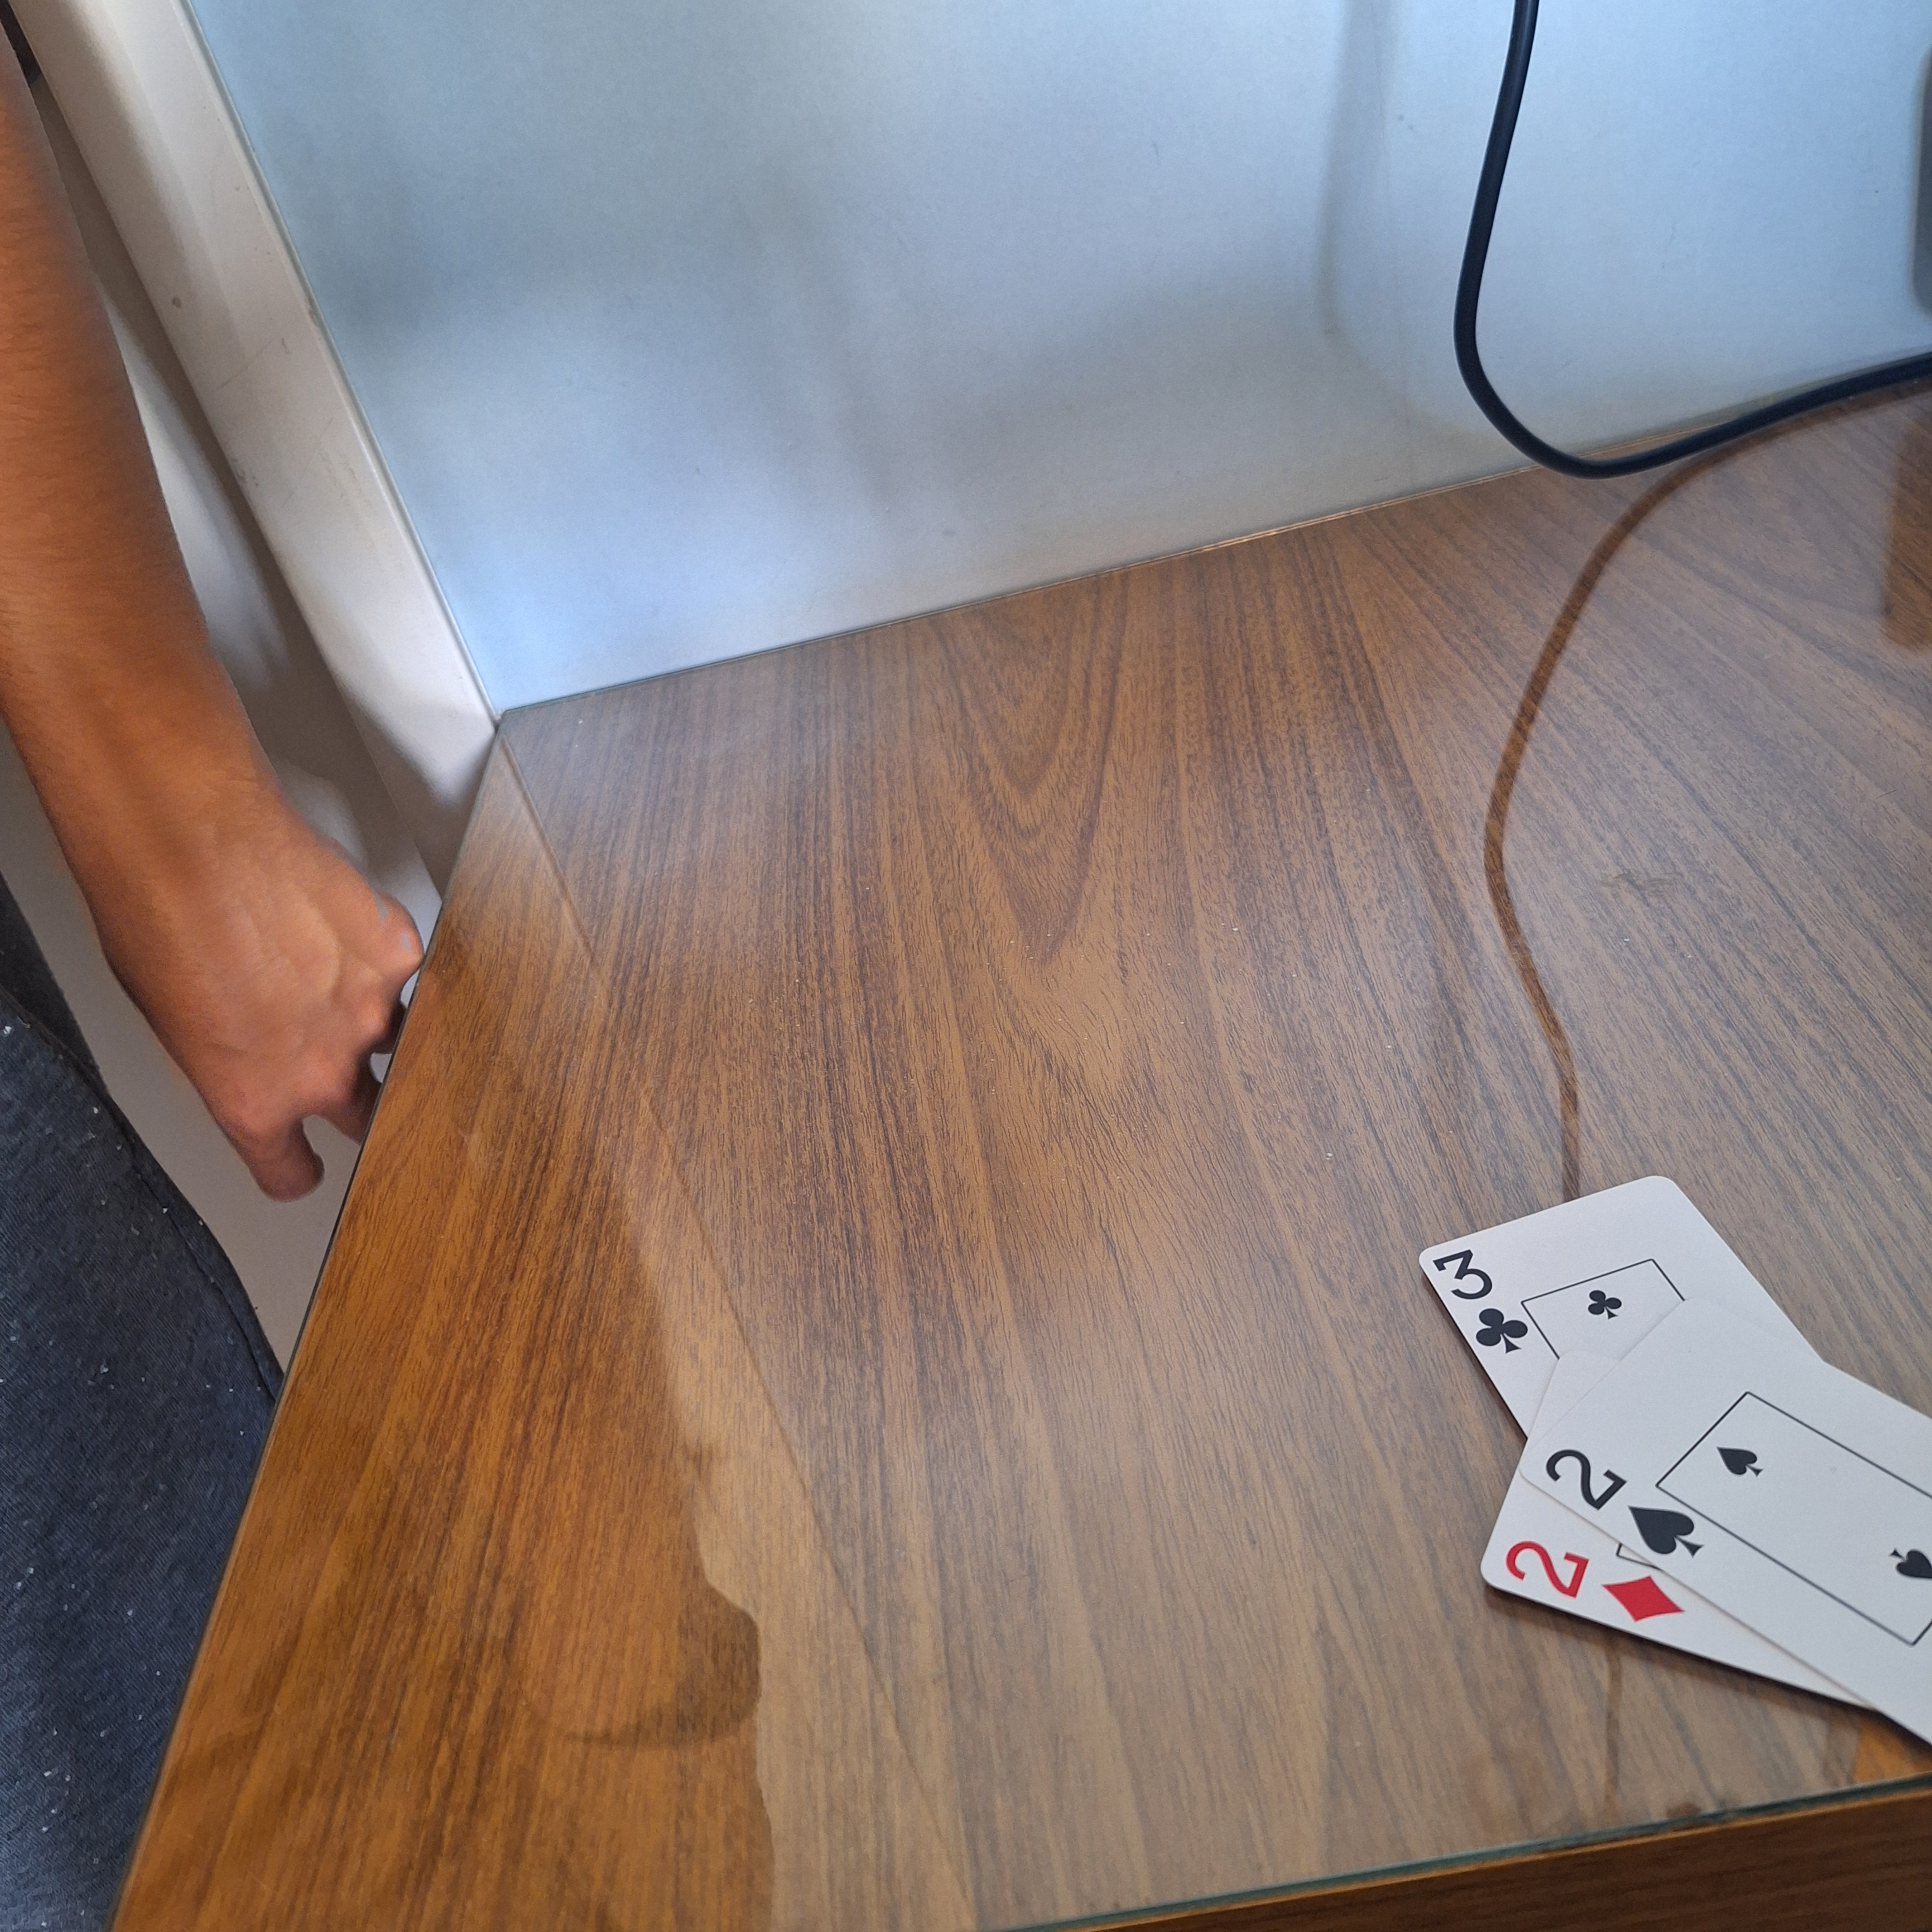2E: (1541, 1442, 1713, 1557)
2O: (1486, 1541, 1686, 1628)
3P: (1421, 1235, 1541, 1364)
